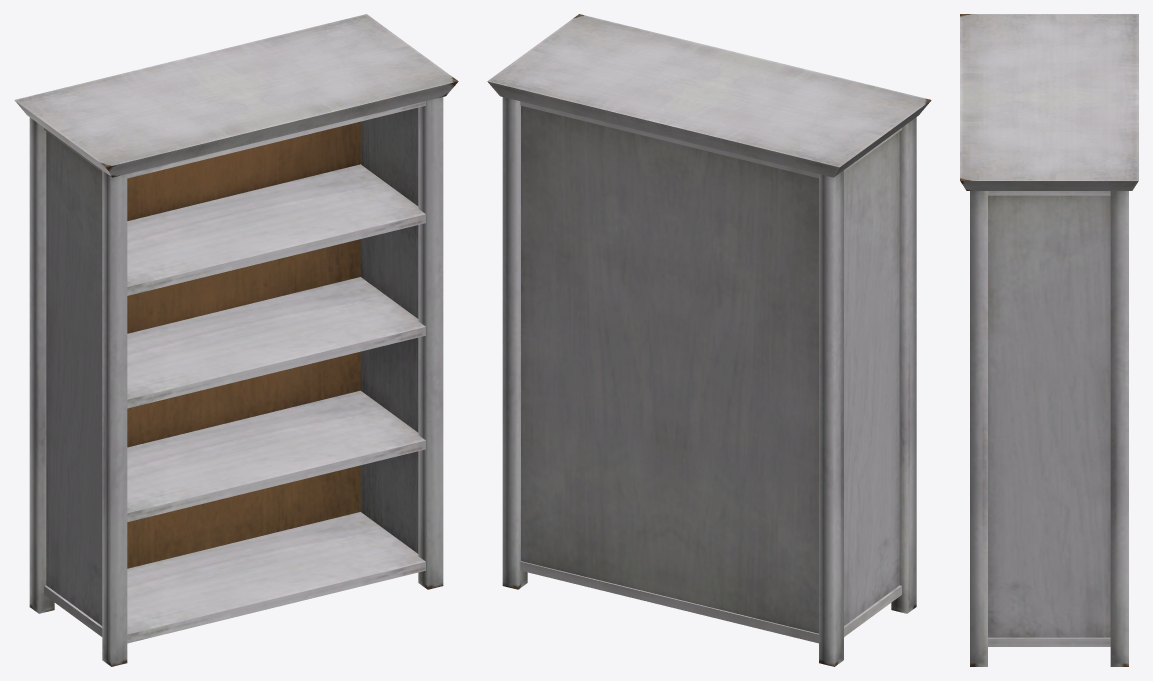
The model's file is shelf_wood.dae.
The picture shows the model from 3 angles, left to right: view 1: azimuth 30°, elevation 25°; view 2: azimuth 150°, elevation 25°; view 3: azimuth 270°, elevation 25°; orthographic projection. The views are drawn at different scales.
Parts seen in each view (by area): view 1: shelf_wood; view 2: shelf_wood; view 3: shelf_wood.
Part boxes in pixels (bbox=[...]): shelf_wood: bbox=[14, 14, 458, 666]; shelf_wood: bbox=[487, 14, 931, 666]; shelf_wood: bbox=[960, 14, 1138, 666].
Bounding box in the file's own units: 132 × 180 × 59.49.
